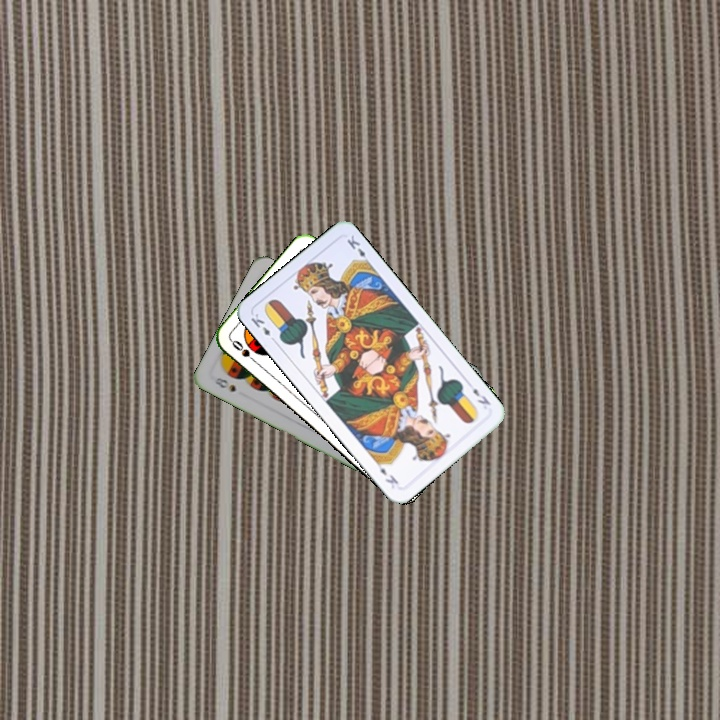EK: (247, 309, 279, 345), (469, 384, 493, 408)
S8: (208, 373, 239, 395)
SO: (228, 336, 261, 367)
